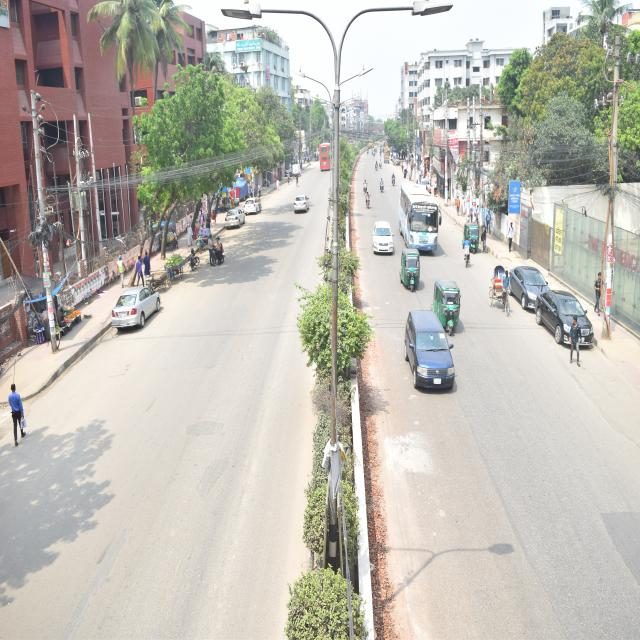bus: (397, 170, 450, 257), (315, 130, 338, 196)
car: (394, 312, 474, 428), (535, 281, 614, 364), (105, 274, 179, 339), (506, 252, 557, 326), (362, 217, 400, 266), (281, 191, 315, 228), (218, 202, 247, 244), (237, 187, 268, 224)
motorbike: (194, 225, 233, 277), (178, 241, 210, 277), (359, 189, 373, 214), (379, 172, 389, 202), (359, 171, 371, 195), (391, 171, 399, 197), (374, 153, 380, 176), (380, 154, 384, 170)
pickup-van: (290, 161, 304, 189)
